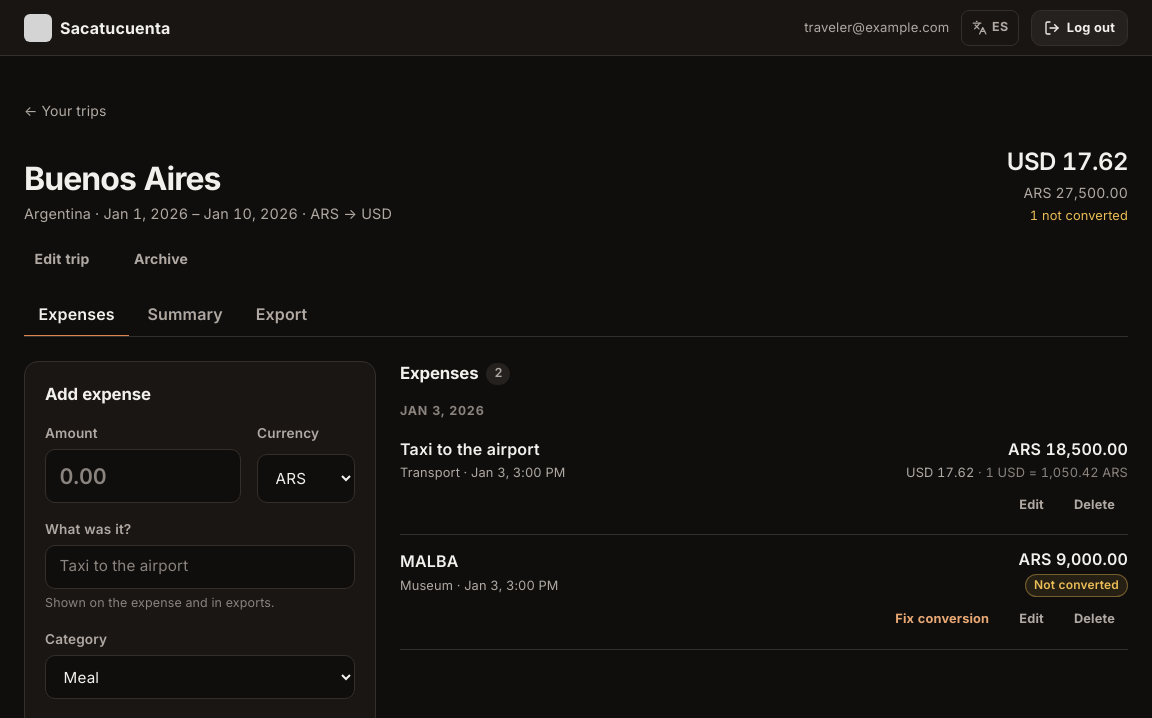
Test: trip view › fixes an unconverted expense with a manual rate entered the way travelers read it
This screenshot has width=1152, height=718.
Click the button with aria-label "Fix conversion for MALBA" at (942, 619), box [882, 601, 1002, 637]
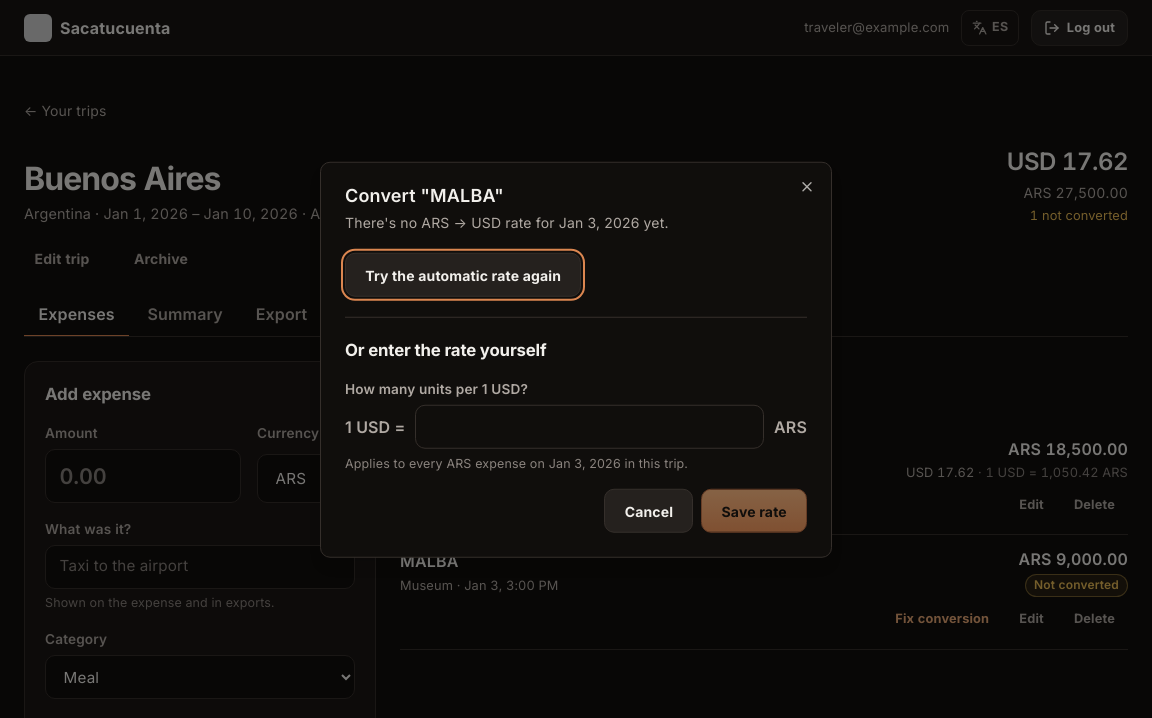
Type "1050" into the number field labelled "How many units per 1 USD?" at (590, 427), box [415, 405, 764, 449]
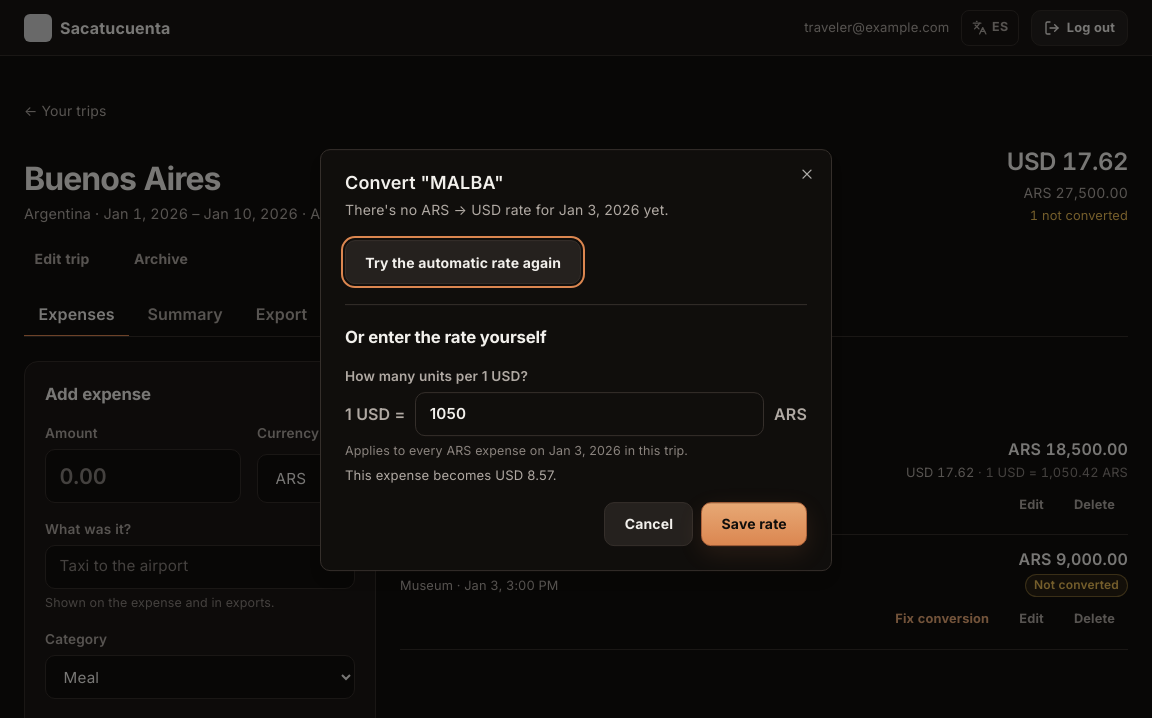
Result: the text "This expense becomes USD 8.57." is shown at [345, 467, 557, 483]
Click the button "Save rate" at (754, 524), box [701, 502, 807, 546]
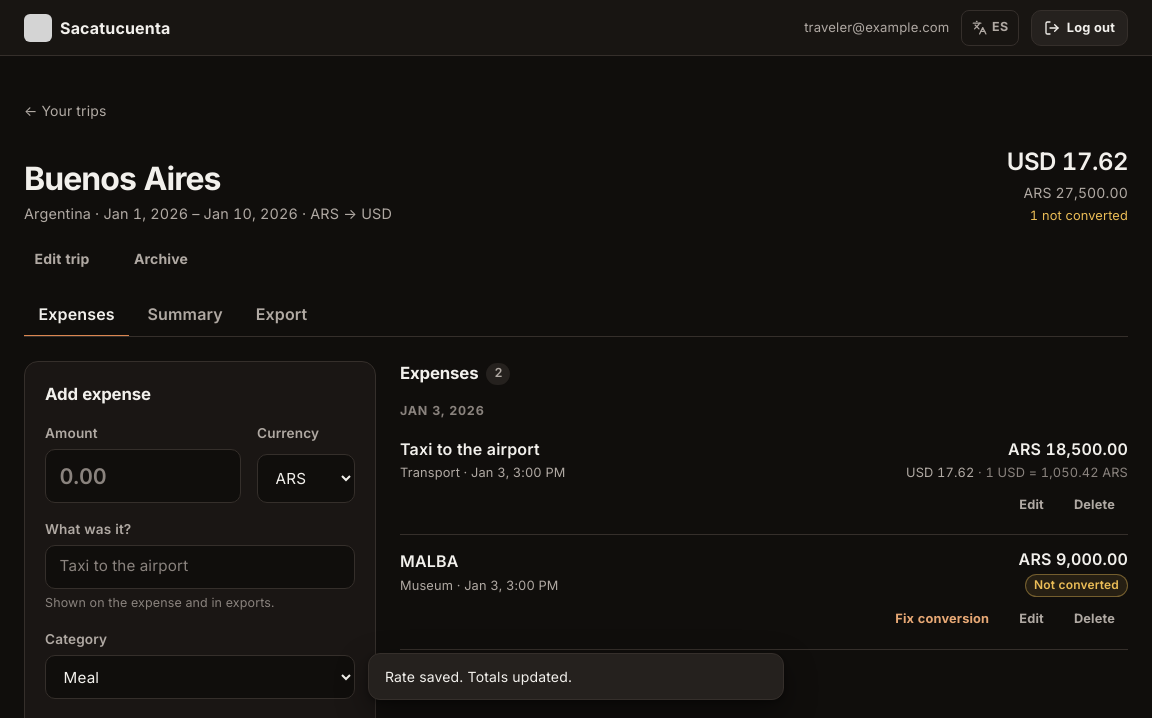
Result: the text "Rate saved. Totals updated." is shown at [385, 666, 572, 687]
